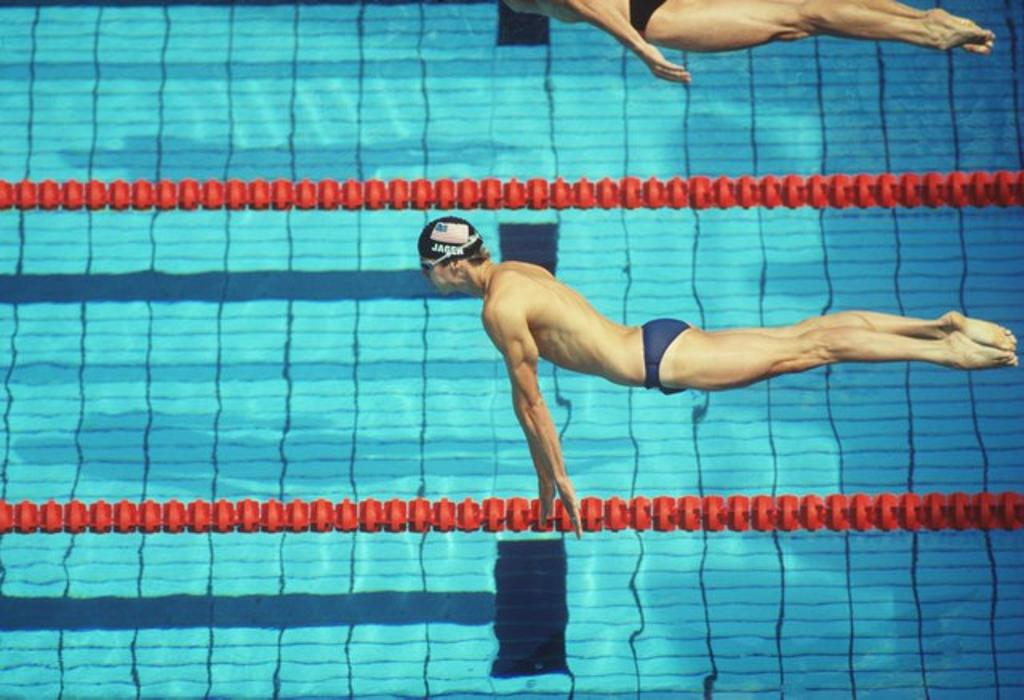face: (419, 248, 454, 295)
